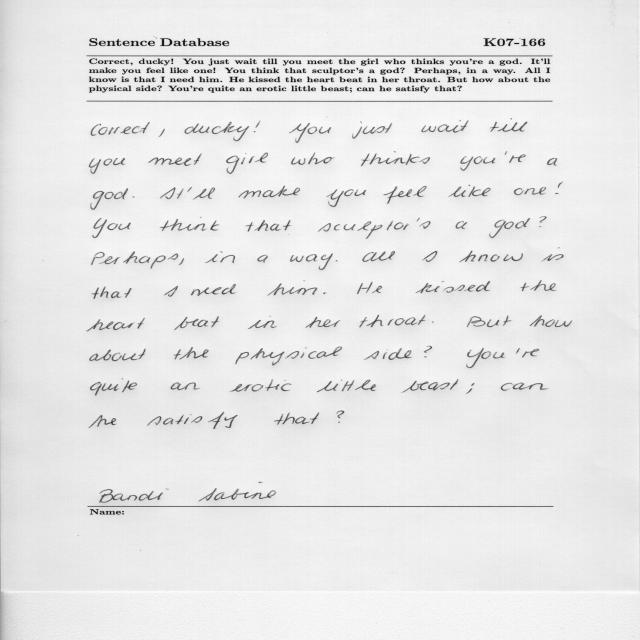word: (235, 347, 342, 366), (318, 221, 409, 239), (147, 412, 238, 429), (92, 252, 178, 269), (184, 122, 249, 141), (361, 152, 430, 166), (416, 281, 490, 293), (359, 315, 426, 328), (289, 123, 331, 143), (91, 122, 150, 136), (160, 217, 219, 231), (490, 218, 531, 238), (91, 188, 128, 210), (90, 379, 137, 396), (402, 379, 459, 393), (239, 186, 300, 199), (231, 379, 292, 392), (383, 186, 427, 204), (466, 348, 505, 368), (459, 251, 523, 263), (86, 318, 145, 331), (317, 380, 376, 393), (93, 218, 131, 238), (290, 253, 333, 270), (352, 121, 392, 139), (148, 153, 202, 166), (327, 189, 366, 207), (90, 349, 146, 361), (267, 283, 317, 296), (174, 316, 219, 330), (422, 120, 469, 133), (275, 412, 320, 425), (89, 158, 125, 174), (364, 348, 412, 360), (291, 152, 335, 165), (191, 284, 236, 296), (461, 156, 496, 171), (92, 286, 132, 299), (491, 118, 528, 132), (449, 185, 491, 197), (530, 316, 572, 328), (246, 220, 291, 231), (467, 316, 511, 327), (501, 382, 548, 391), (174, 347, 209, 359), (520, 281, 556, 292), (248, 316, 277, 329), (306, 317, 340, 328), (89, 415, 117, 428), (362, 251, 395, 262), (205, 251, 235, 263), (226, 156, 245, 174), (187, 187, 215, 199), (357, 281, 382, 294), (543, 247, 564, 261), (160, 187, 184, 199), (514, 187, 546, 195), (170, 382, 200, 390), (505, 152, 526, 163), (516, 348, 539, 357), (249, 153, 268, 163), (422, 251, 437, 262), (417, 218, 431, 229), (164, 286, 178, 297), (466, 383, 475, 394), (456, 221, 468, 229), (257, 255, 268, 263), (424, 346, 432, 357), (555, 182, 562, 194), (337, 411, 344, 423), (539, 217, 547, 227), (254, 121, 261, 132), (547, 158, 557, 165), (159, 128, 165, 137), (179, 258, 184, 265), (323, 292, 327, 294), (133, 196, 135, 198), (336, 260, 338, 262), (432, 322, 434, 323)
